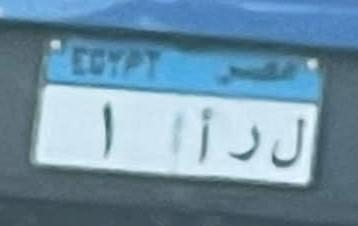1: (85, 94, 120, 169)
أ: (188, 114, 216, 170)
ر: (233, 119, 265, 165)
ل: (263, 106, 308, 172)
